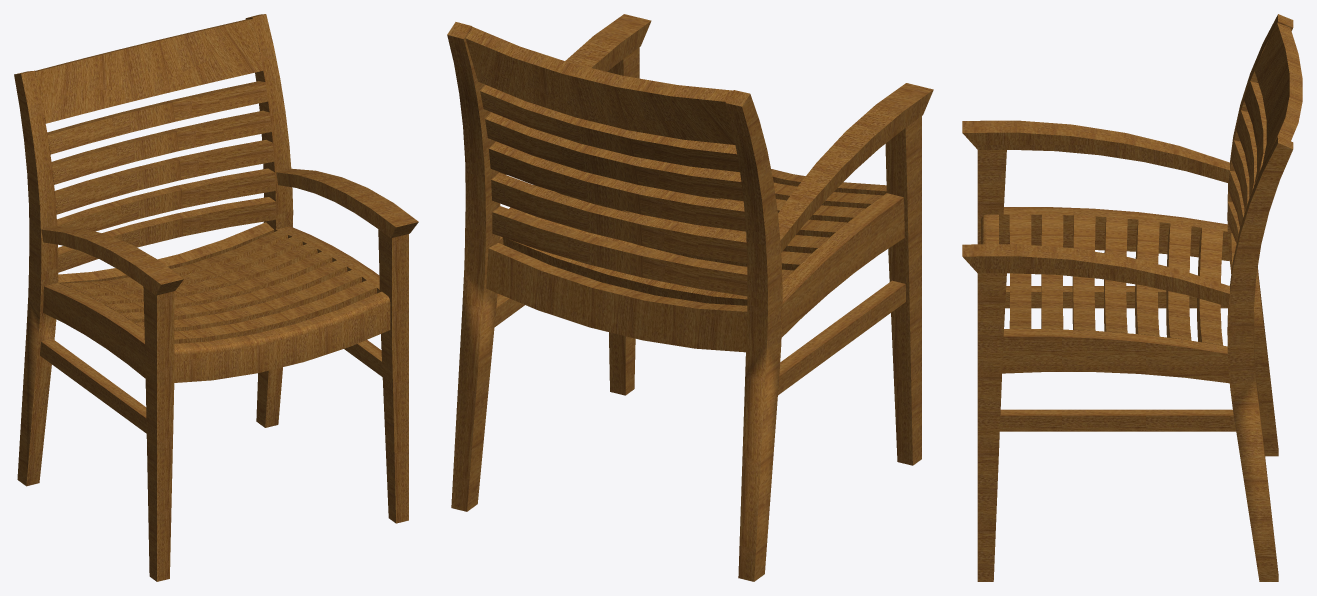
File: chair_wood.dae
3 renders of one model, left to right at view 1: azimuth 30°, elevation 25°; view 2: azimuth 150°, elevation 25°; view 3: azimuth 270°, elevation 25°, orthographic. The views are drawn at different scales.
Parts seen in each view (by area): view 1: Group_1_1_1, Group_17_2, Group_9_1, Group_14_2, Group_14_1, Group_10_3, Group_10_4, Group_17_1, Group_10_5, Group_10_2, Group_10_1, Group_19_2 (+13 smaller); view 2: Group_17_2, Group_1_1_1, Group_17_1, Group_13_1, Group_14_2, Group_10_2, Group_10_1, Group_10_3, Group_10_4, Group_1_1, Group_19_2, Group_10_5 (+11 smaller); view 3: Group_17_1, Group_19_1, Group_14_1, Group_1, Group_1_1, Group_18_1, Group_1_1_1, Group_19_2, Group_17_2, Group_2_7, Group_2_6, Group_2_5 (+11 smaller).
Part boxes in pixels (bbox=[...]): Group_1_1_1: bbox=[35, 19, 263, 123]; Group_17_2: bbox=[14, 70, 58, 486]; Group_9_1: bbox=[174, 291, 390, 382]; Group_14_2: bbox=[143, 286, 174, 581]; Group_14_1: bbox=[378, 229, 408, 523]; Group_10_3: bbox=[54, 140, 274, 214]; Group_10_4: bbox=[51, 110, 271, 184]; Group_17_1: bbox=[245, 14, 293, 427]; Group_10_5: bbox=[47, 81, 268, 154]; Group_10_2: bbox=[57, 168, 275, 231]; Group_10_1: bbox=[58, 197, 275, 272]; Group_19_2: bbox=[43, 283, 145, 378]; Group_17_2: bbox=[725, 90, 782, 581]; Group_1_1_1: bbox=[465, 27, 735, 144]; Group_17_1: bbox=[447, 22, 500, 511]; Group_13_1: bbox=[486, 243, 747, 352]; Group_14_2: bbox=[885, 116, 921, 465]; Group_10_2: bbox=[491, 172, 747, 263]; Group_10_1: bbox=[492, 206, 747, 296]; Group_10_3: bbox=[489, 141, 745, 231]; Group_10_4: bbox=[485, 112, 743, 200]; Group_1_1: bbox=[778, 83, 933, 252]; Group_19_2: bbox=[781, 193, 904, 337]; Group_10_5: bbox=[480, 84, 739, 172]; Group_17_1: bbox=[1227, 136, 1293, 581]; Group_19_1: bbox=[1002, 329, 1229, 383]; Group_14_1: bbox=[977, 273, 1006, 581]; Group_1: bbox=[962, 244, 1229, 306]; Group_1_1: bbox=[962, 120, 1229, 183]; Group_18_1: bbox=[1000, 409, 1236, 431]; Group_1_1_1: bbox=[1254, 22, 1302, 184]; Group_19_2: bbox=[1002, 207, 1229, 261]; Group_17_2: bbox=[1227, 14, 1293, 456]; Group_2_7: bbox=[1197, 227, 1223, 345]; Group_2_6: bbox=[1166, 223, 1191, 340]; Group_2_5: bbox=[1135, 219, 1159, 336].
Size of the model in its own units: 57.16 by 60.59 by 85.89.
Materials: 1 (1 with a texture image).
